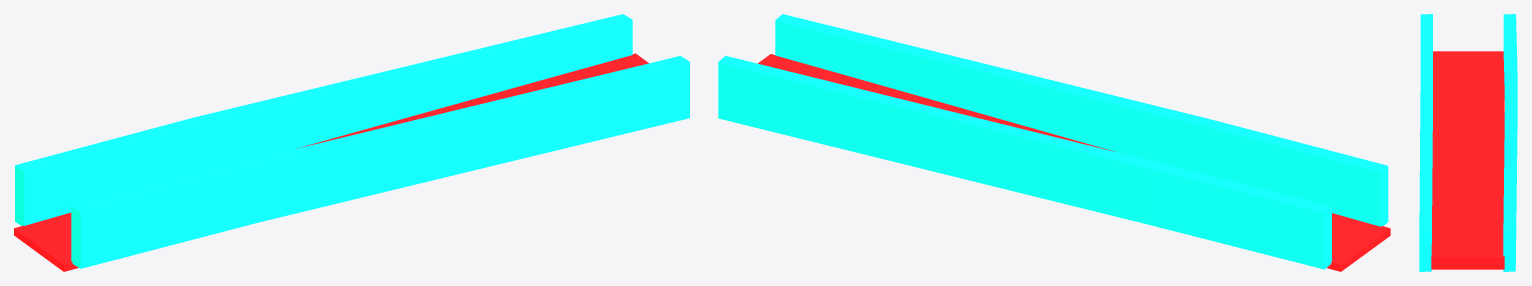
File: rampa.dae
3 views of the same model, side by side, from view 1: azimuth 30°, elevation 25°; view 2: azimuth 150°, elevation 25°; view 3: azimuth 270°, elevation 25° (orthographic). The views are drawn at different scales.
Visible parts, largest first — view 1: Cube_001, Cube; view 2: Cube_001, Cube; view 3: Cube, Cube_001.
Boxes of the visible parts, left/top/right/bottom form: Cube_001: left=15, top=14, right=689, bottom=268; Cube: left=14, top=53, right=648, bottom=271; Cube_001: left=718, top=14, right=1388, bottom=269; Cube: left=758, top=54, right=1390, bottom=271; Cube: left=1431, top=51, right=1504, bottom=269; Cube_001: left=1419, top=14, right=1517, bottom=271.
Bounding box in the file's own units: 5.97 × 1.11 × 0.6012.
